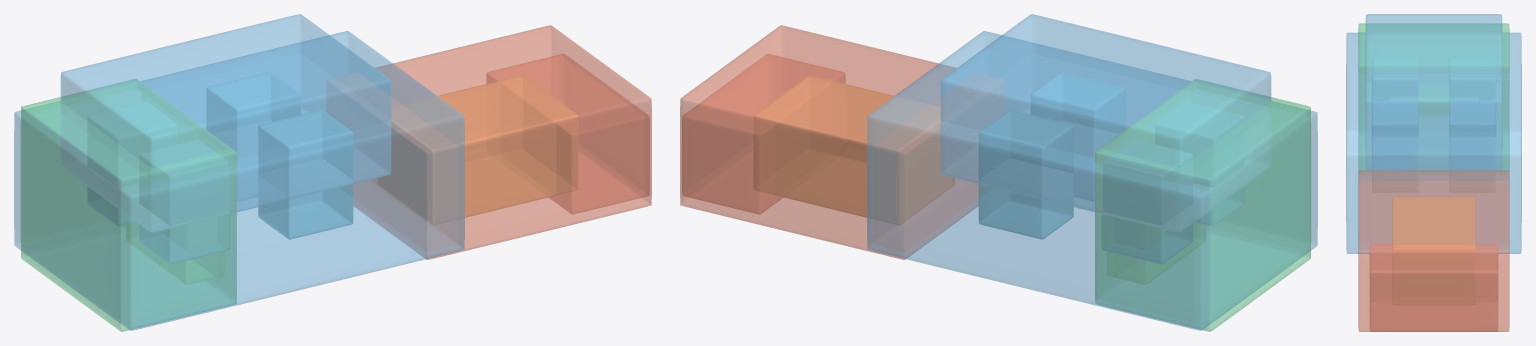
File: envelopes.glb
3 views of the same model, side by side, from view 1: azimuth 30°, elevation 25°; view 2: azimuth 150°, elevation 25°; view 3: azimuth 270°, elevation 25° (orthographic). The views are drawn at different scales.
Parts seen in each view (by area): view 1: CABIN_ENVELOPE, ENGINE_BAY, CARGO_ENVELOPE, ENGINE_BAY_CORE, OCCUPANT_SPACE_-0.3784, OCCUPANT_SPACE_0.3784; view 2: CABIN_ENVELOPE, ENGINE_BAY, CARGO_ENVELOPE, ENGINE_BAY_CORE, OCCUPANT_SPACE_0.3784, OCCUPANT_SPACE_-0.3784; view 3: CABIN_ENVELOPE, ENGINE_BAY, CARGO_ENVELOPE, ENGINE_BAY_CORE, OCCUPANT_SPACE_0.3784, OCCUPANT_SPACE_-0.3784.
Part boxes in pixels (x1,y1,x2,y2): CABIN_ENVELOPE: (14, 14, 464, 330); ENGINE_BAY: (353, 25, 651, 259); CARGO_ENVELOPE: (20, 79, 236, 331); ENGINE_BAY_CORE: (377, 75, 578, 225); OCCUPANT_SPACE_-0.3784: (139, 110, 353, 263); OCCUPANT_SPACE_0.3784: (87, 72, 300, 225); CABIN_ENVELOPE: (867, 14, 1317, 330); ENGINE_BAY: (680, 25, 978, 259); CARGO_ENVELOPE: (1095, 79, 1311, 331); ENGINE_BAY_CORE: (753, 75, 954, 225); OCCUPANT_SPACE_0.3784: (978, 110, 1192, 263); OCCUPANT_SPACE_-0.3784: (1031, 72, 1244, 225); CABIN_ENVELOPE: (1346, 14, 1521, 253); ENGINE_BAY: (1358, 170, 1509, 331); CARGO_ENVELOPE: (1358, 23, 1509, 170); ENGINE_BAY_CORE: (1392, 196, 1475, 304); OCCUPANT_SPACE_0.3784: (1449, 57, 1495, 169); OCCUPANT_SPACE_-0.3784: (1372, 57, 1418, 169).
Bounding box in the file's own units: 4.53 × 1.5 × 1.72.
